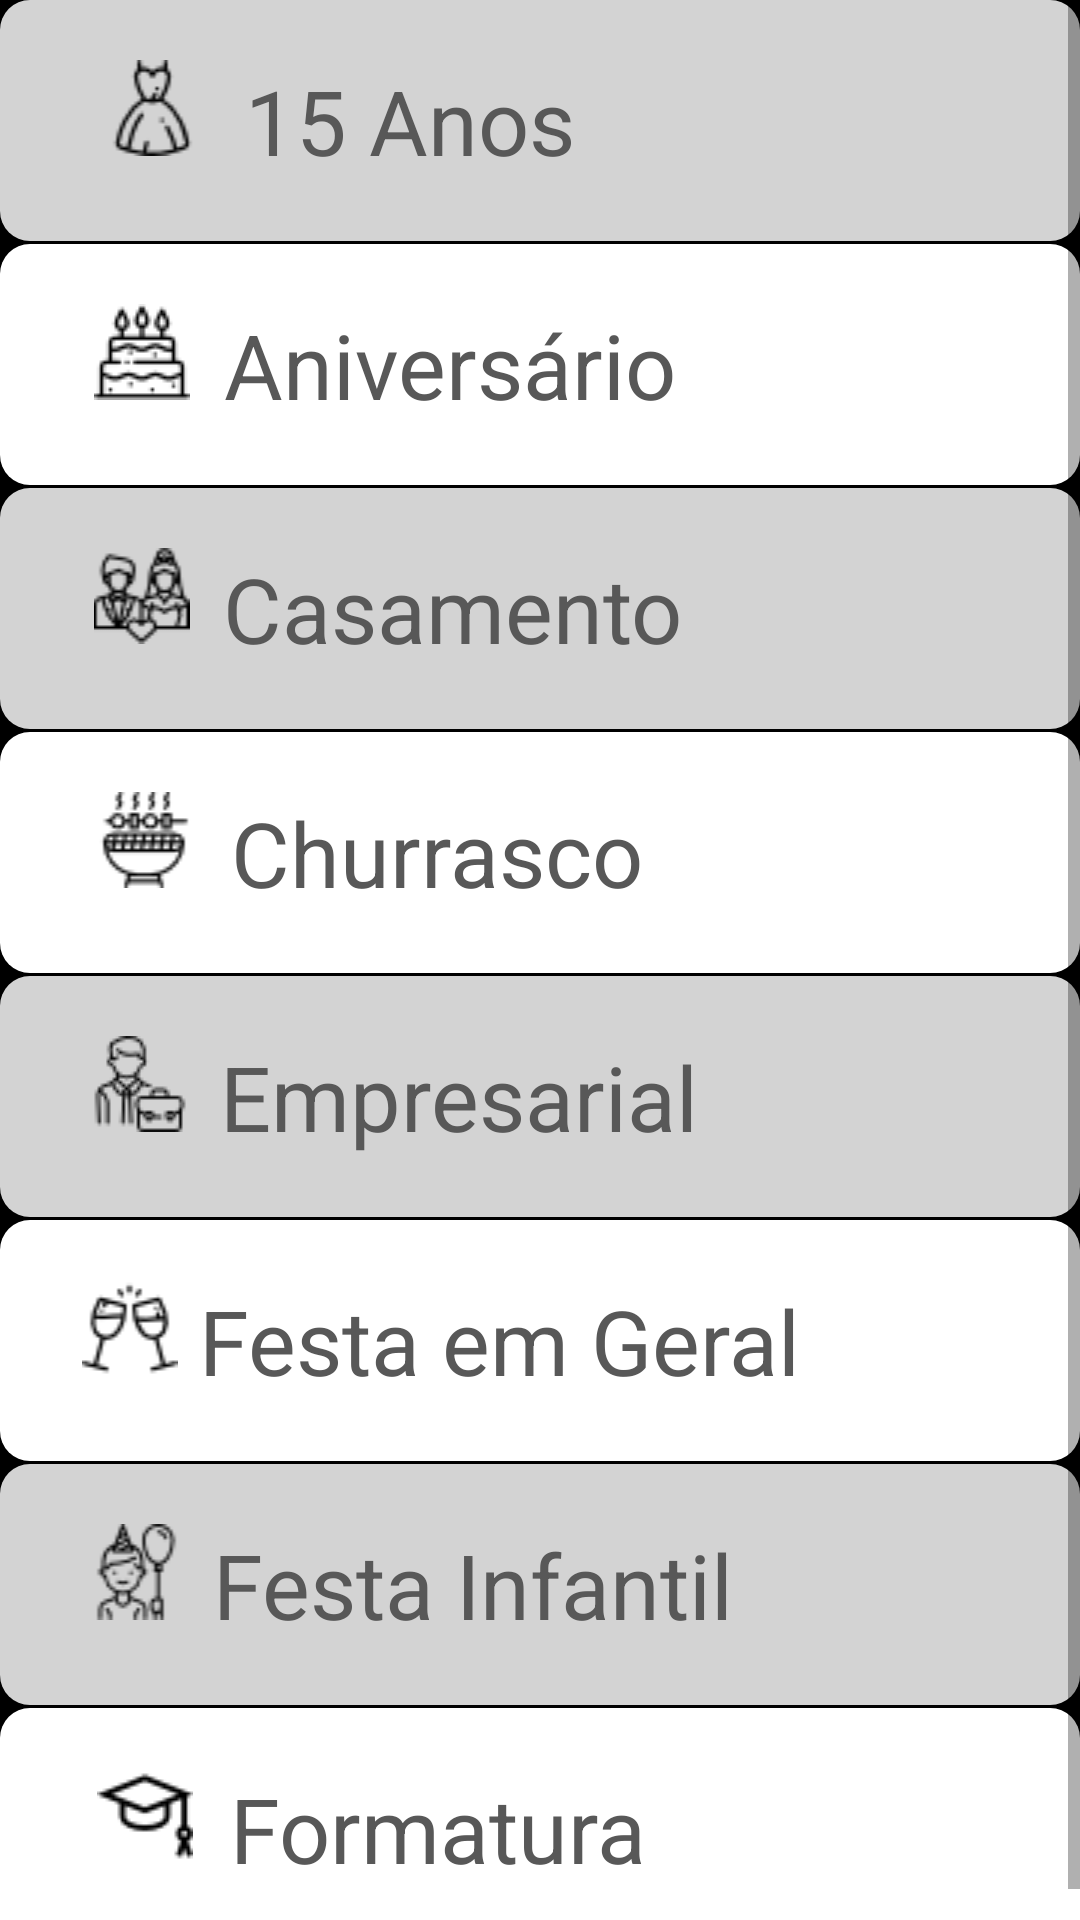

Icon bounding boxes for this 1080 x 1920 phone screenshot, format BBox(x1, y1, x2, y2):
aniversario: BBox(94, 306, 190, 400)
quinze: BBox(114, 60, 191, 156)
